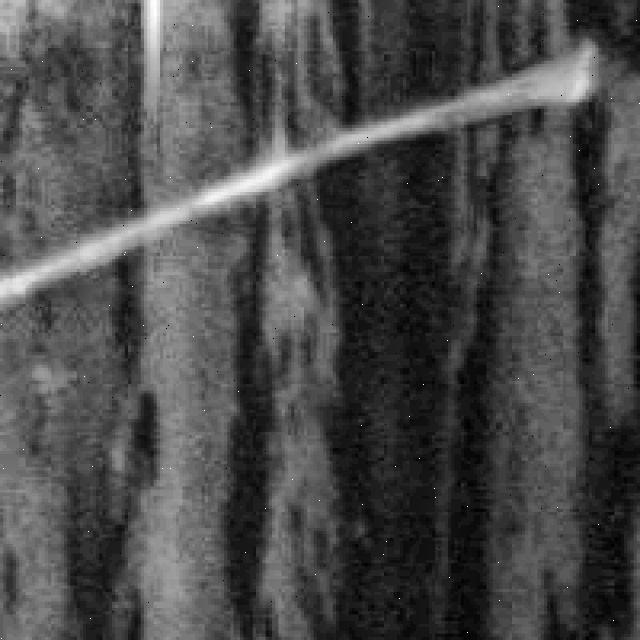Inclusion: (10, 42, 592, 304)
